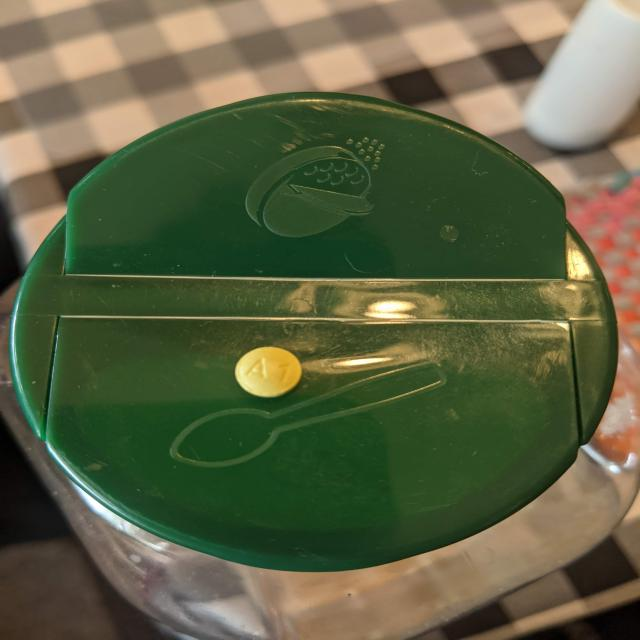non-organic waste: (233, 346, 304, 398)
